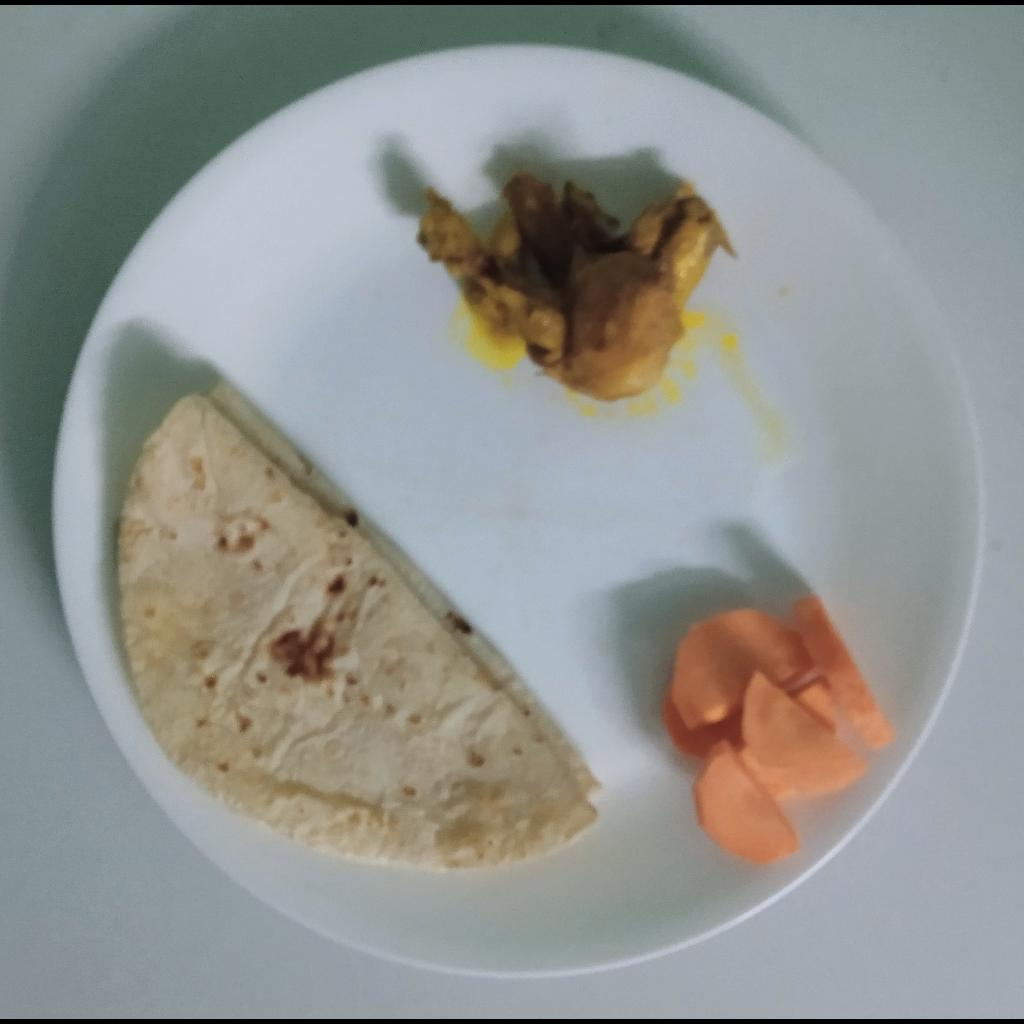carrot: (659, 598, 896, 863)
chicken: (416, 173, 741, 401)
ruti: (118, 383, 608, 872)
